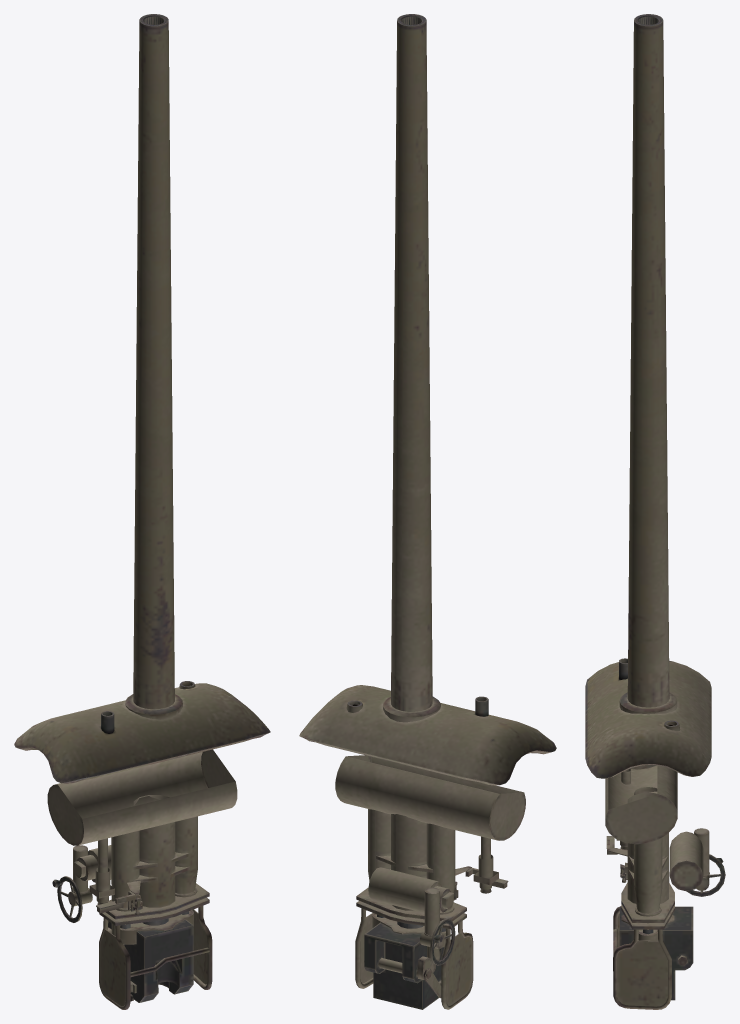
File: Gun_04.glb
3 renders of one model, left to right at view 1: azimuth 30°, elevation 25°; view 2: azimuth 150°, elevation 25°; view 3: azimuth 270°, elevation 25°, orthographic.
Visible parts, largest first — view 1: set_0_group_0; view 2: set_0_group_0; view 3: set_0_group_0.
Boxes of the visible parts, box(x1,y1,x2,y2) form: set_0_group_0: box(14, 14, 270, 1009); set_0_group_0: box(299, 14, 556, 1009); set_0_group_0: box(585, 14, 725, 1009).
Bounding box in the file's own units: 0.9091 × 3.97 × 0.5207.
1 material, 1 textured.
